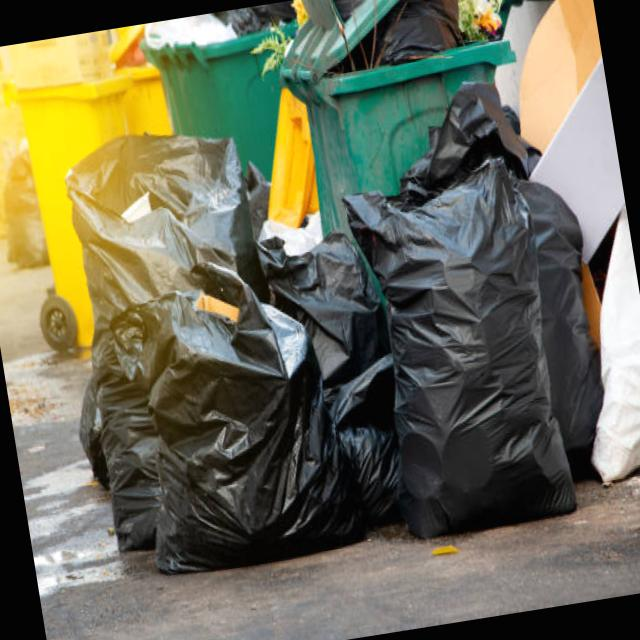garbage: (7, 0, 640, 592)
